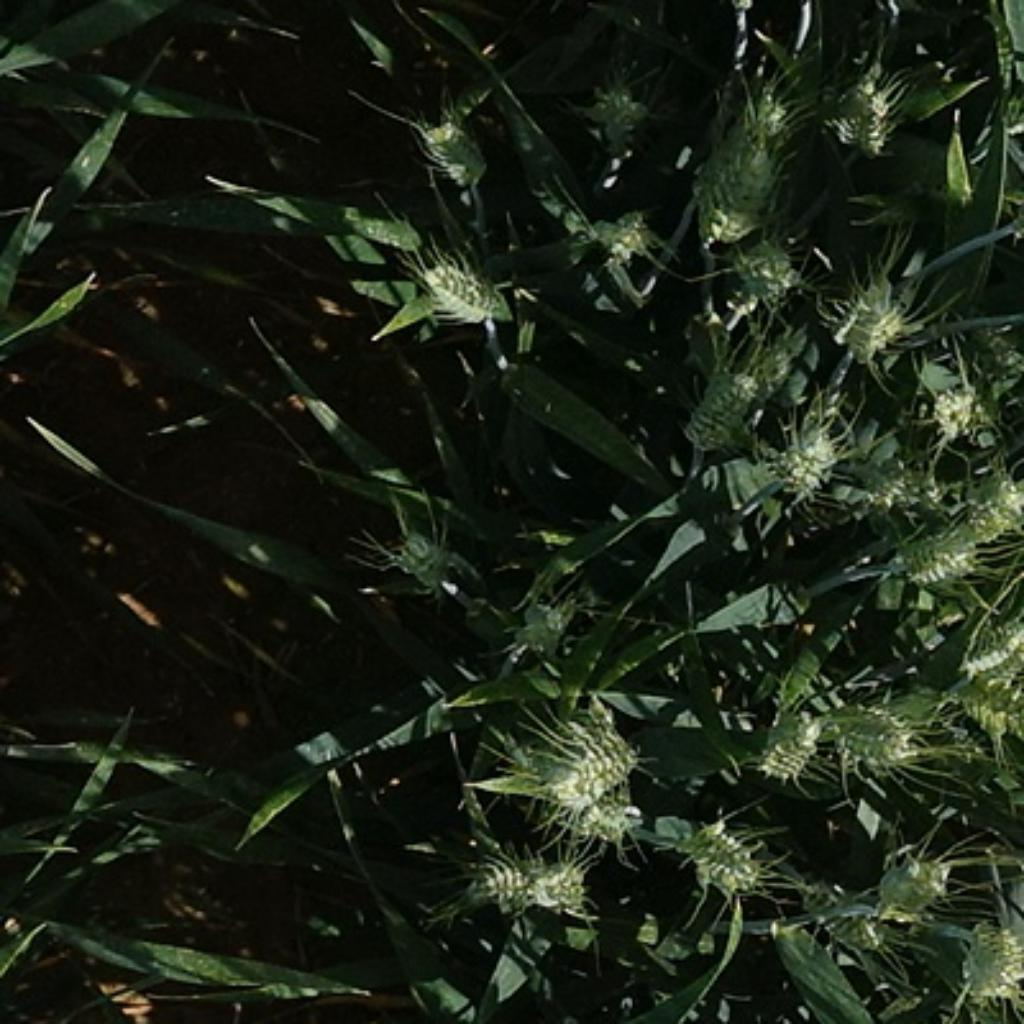0-0: (701, 138, 801, 253), (678, 345, 773, 460), (688, 87, 788, 189), (472, 842, 596, 918), (524, 732, 648, 806), (821, 688, 916, 775), (826, 266, 911, 363), (798, 880, 897, 959), (862, 842, 957, 921), (542, 791, 665, 852), (409, 250, 509, 325), (815, 75, 908, 154), (890, 517, 988, 591), (844, 450, 942, 522), (750, 696, 829, 783), (952, 908, 1024, 1003), (919, 366, 1008, 440), (677, 819, 768, 891), (947, 465, 1024, 550), (719, 230, 803, 307), (419, 112, 497, 194), (762, 417, 842, 496), (944, 668, 1024, 742), (560, 204, 660, 263), (583, 76, 655, 151), (957, 606, 1024, 680), (510, 593, 586, 655), (967, 317, 1024, 389), (389, 530, 453, 591), (337, 207, 422, 248)
